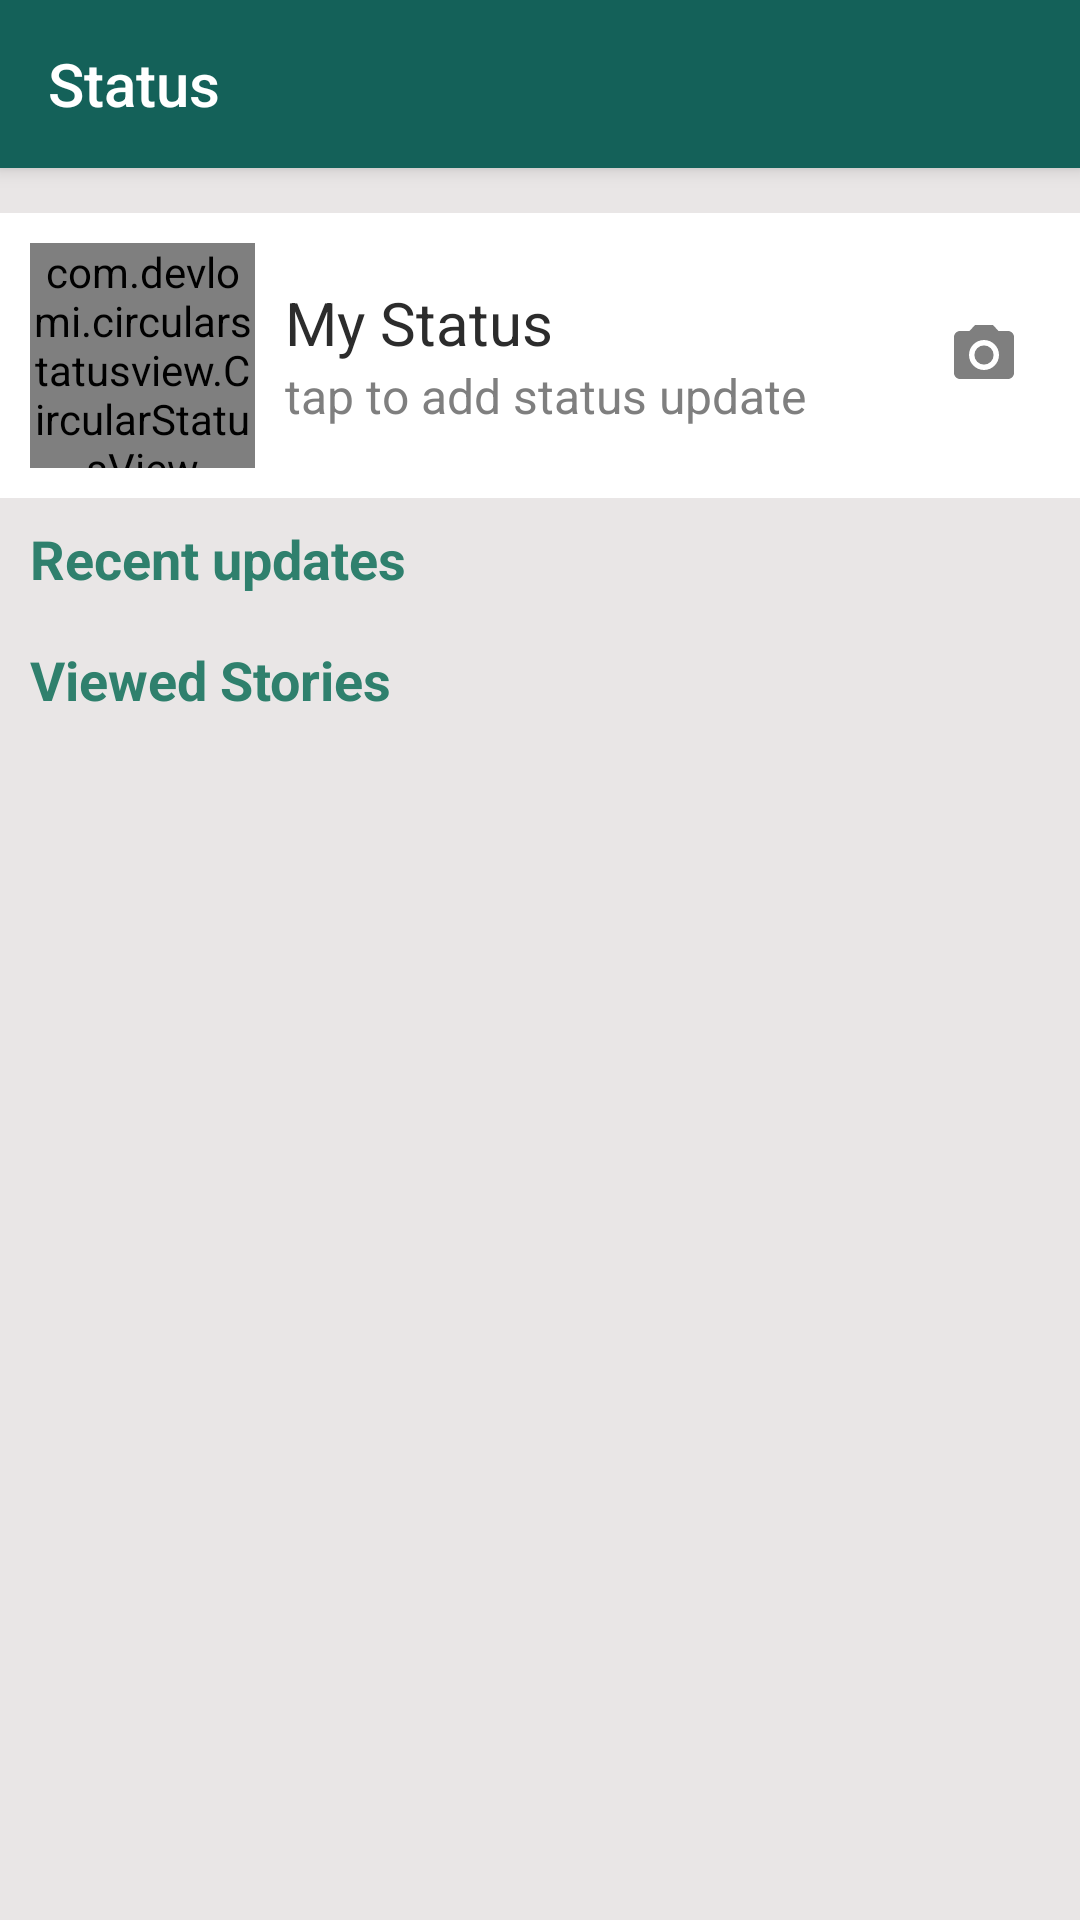

Named icons in this screenshot (1080x1920) and their centers, point (x, y):
camera: point (984, 352)
